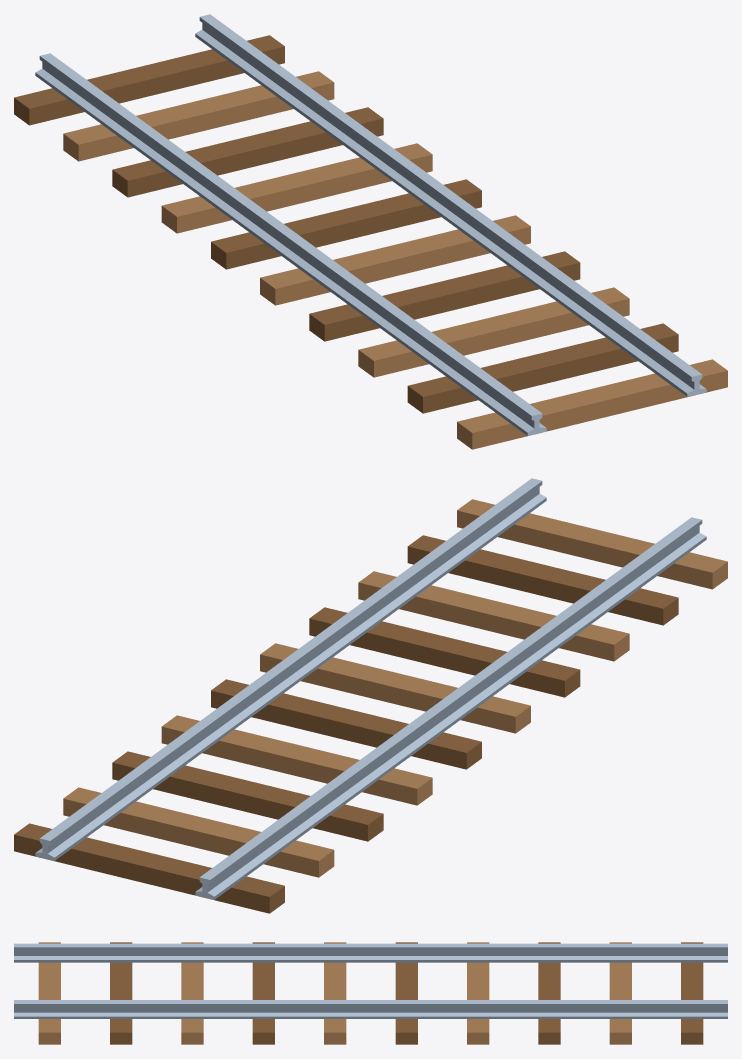
The model's file is rail-piece.glb.
The picture shows the model from 3 angles, top to bottom: view 1: azimuth 30°, elevation 25°; view 2: azimuth 150°, elevation 25°; view 3: azimuth 270°, elevation 25°; orthographic projection. The views are drawn at different scales.
Visible parts, largest first — view 1: rail-piece; view 2: rail-piece; view 3: rail-piece.
Part boxes in pixels (x1,y1,x2,y2): rail-piece: [14, 14, 727, 449]; rail-piece: [14, 478, 727, 913]; rail-piece: [14, 942, 727, 1044].
Bounding box in the file's own units: 2.4 × 0.32 × 8.
